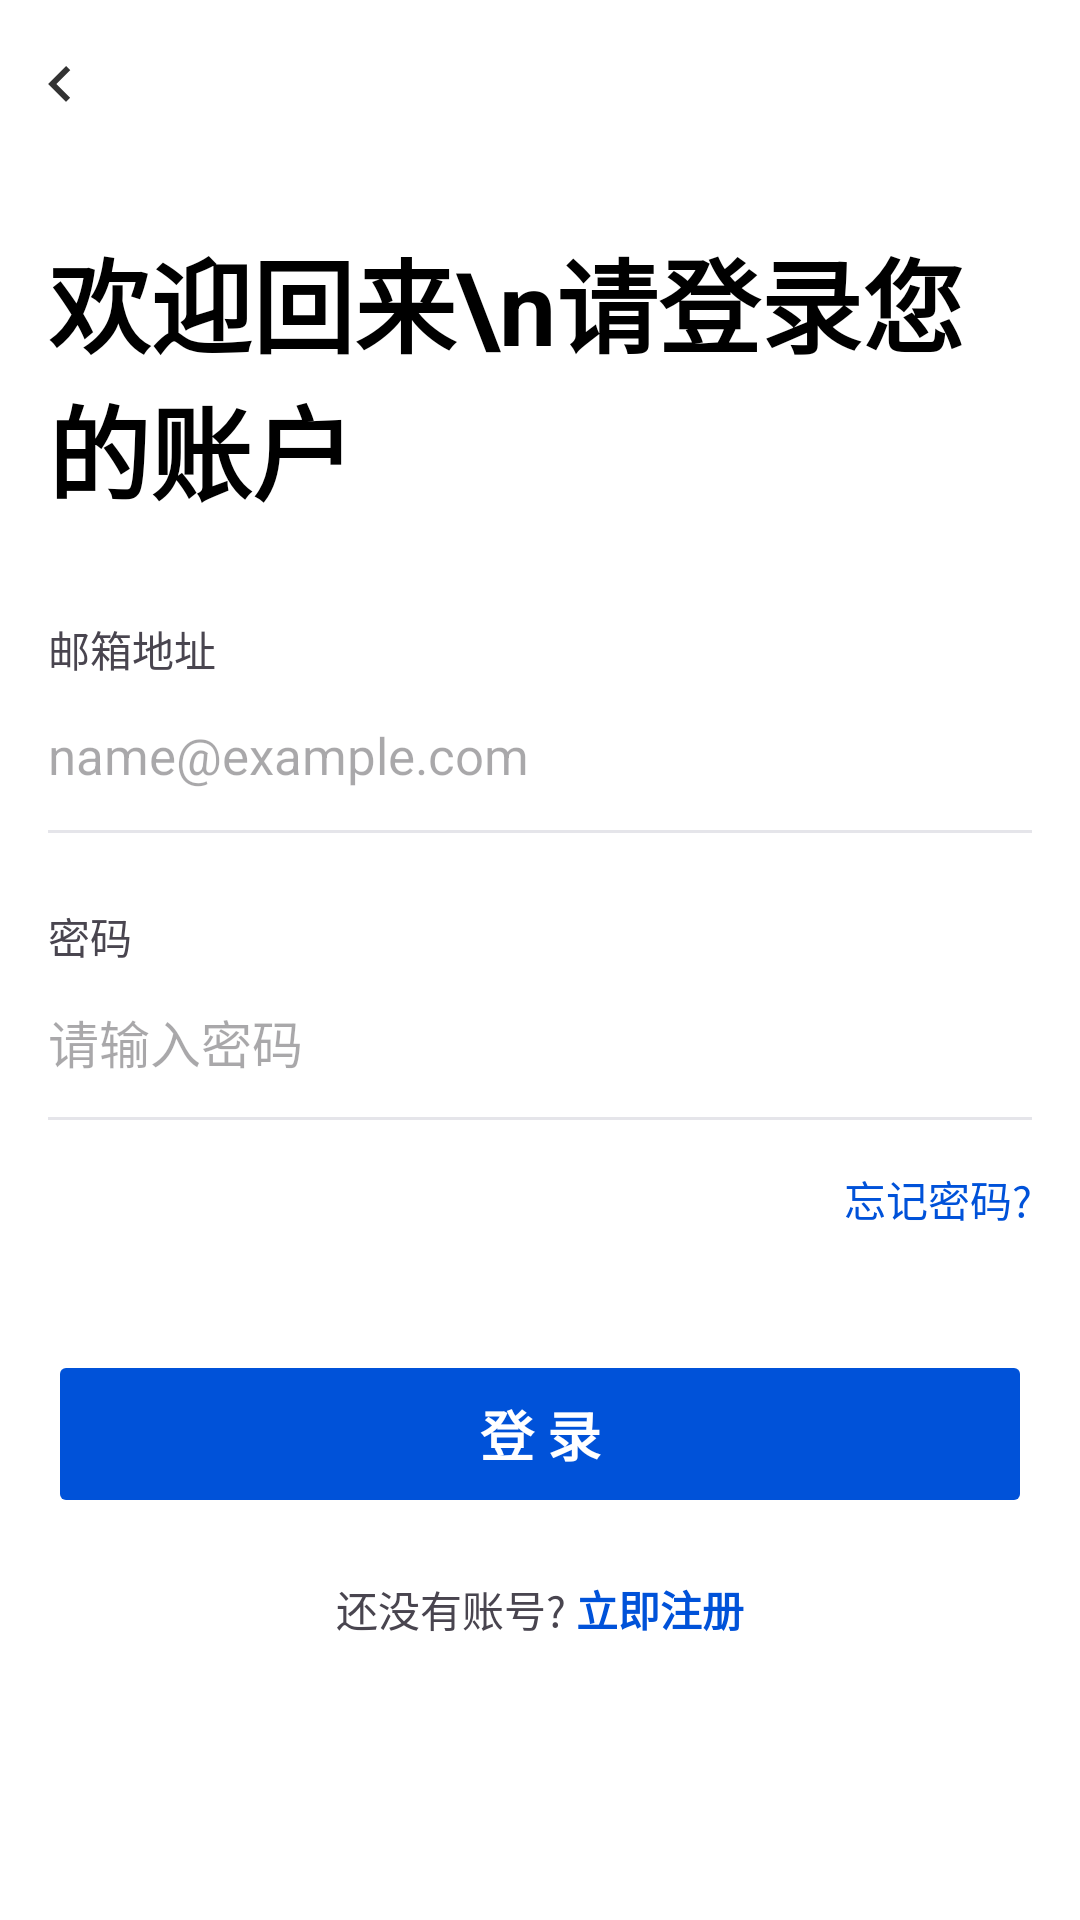

Screen size 1080x1920. Icon name, then its box in pixels as (x1, y1, x2, y2):
chevron left: (48, 66, 70, 102)
